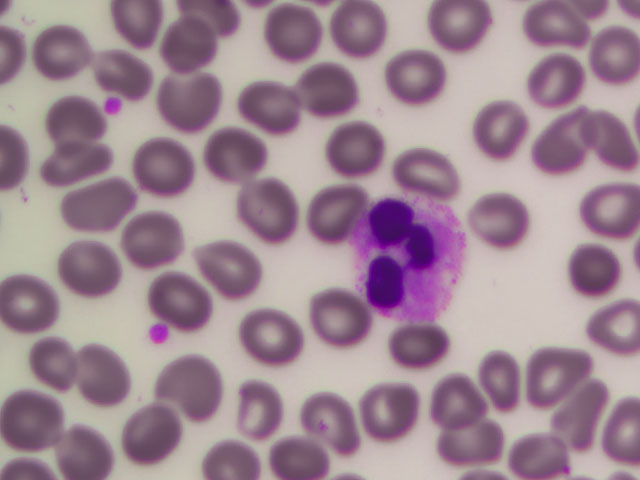Platelets: (140, 321, 174, 349), (99, 92, 126, 117)
RBC: (155, 72, 221, 134), (97, 32, 163, 94), (38, 23, 104, 85), (33, 83, 99, 145), (45, 124, 111, 186), (69, 166, 135, 228), (49, 237, 115, 299), (6, 274, 72, 336), (14, 322, 80, 384), (61, 355, 127, 417), (38, 418, 104, 480), (121, 405, 187, 467), (156, 365, 222, 427), (144, 261, 210, 323), (198, 240, 264, 302), (115, 206, 181, 268), (125, 142, 191, 204), (207, 121, 273, 183), (240, 76, 306, 138), (281, 54, 347, 116), (270, 2, 336, 64), (157, 12, 223, 74), (382, 42, 448, 104), (466, 91, 532, 153), (400, 128, 466, 190), (323, 112, 389, 174), (300, 180, 366, 242), (307, 282, 373, 344), (243, 304, 309, 366), (221, 378, 287, 440), (190, 418, 256, 480), (255, 418, 321, 480), (302, 388, 368, 450), (365, 382, 431, 444), (378, 314, 444, 376), (419, 364, 485, 426), (440, 408, 506, 470), (459, 336, 525, 398), (515, 337, 581, 399), (547, 382, 613, 444), (501, 418, 567, 480), (567, 240, 633, 302), (574, 300, 640, 362), (574, 173, 640, 235), (469, 189, 535, 251), (520, 117, 586, 179), (574, 109, 640, 171), (528, 53, 594, 115), (574, 14, 640, 76), (523, 5, 589, 67), (1, 382, 66, 444), (319, 1, 385, 62), (429, 1, 495, 62)
WBC: (351, 189, 470, 316)
